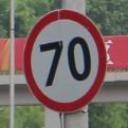speed_limit_70: (19, 6, 111, 114)
